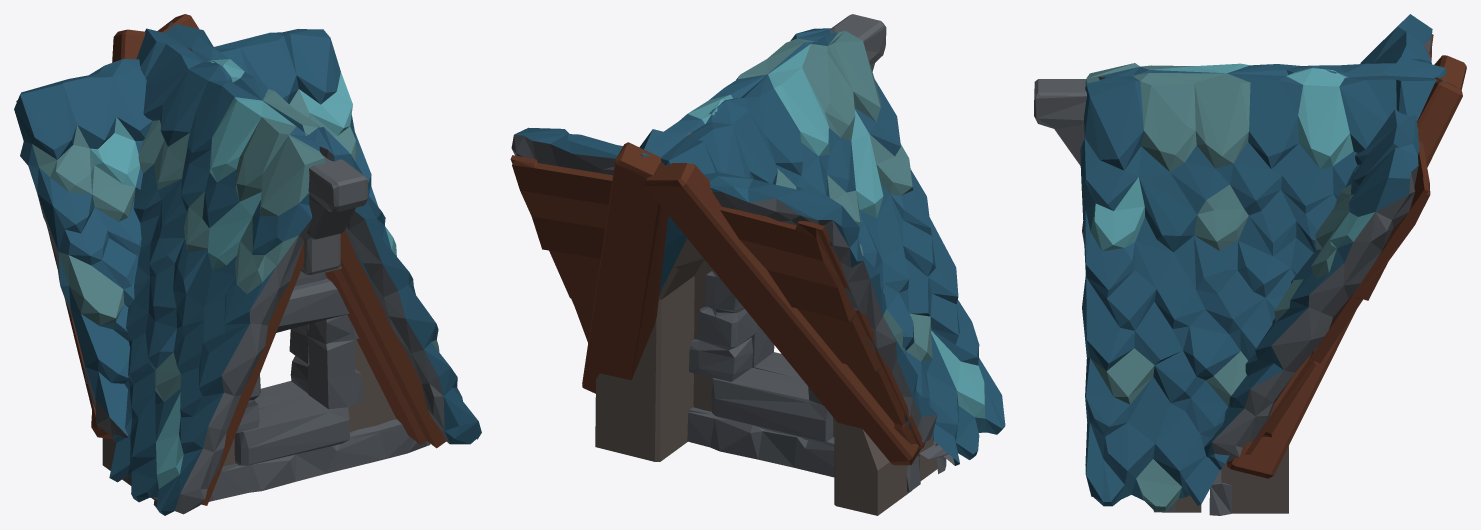
Rendered from MCastle_Roof_Portch_02.FBX.
The picture shows the model from 3 angles, left to right: view 1: azimuth 30°, elevation 25°; view 2: azimuth 150°, elevation 25°; view 3: azimuth 270°, elevation 25°; orthographic projection. The views are drawn at different scales.
Parts seen in each view (by area): view 1: MCastle_Roof_Portch_02_Masonry_LOD0; view 2: MCastle_Roof_Portch_02_Masonry_LOD0; view 3: MCastle_Roof_Portch_02_Masonry_LOD0.
Boxes of the visible parts, x1,y1,x2,y2 form: MCastle_Roof_Portch_02_Masonry_LOD0: (14, 14, 481, 515); MCastle_Roof_Portch_02_Masonry_LOD0: (510, 14, 1005, 515); MCastle_Roof_Portch_02_Masonry_LOD0: (1034, 14, 1466, 515).
Size of what is drawn, in the model's own units: 5.12 by 5.34 by 5.51.
